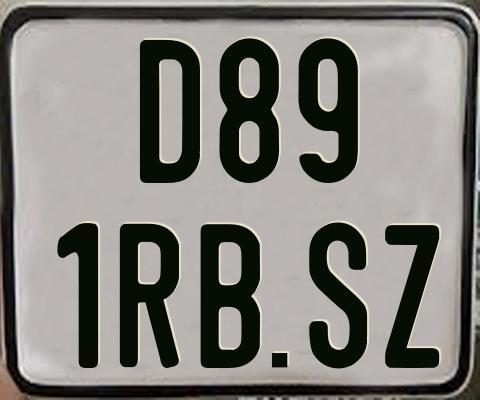1: (57, 221, 98, 369)
8: (217, 37, 282, 186)
9: (297, 37, 362, 184)
B: (198, 223, 263, 370)
D: (138, 39, 198, 185)
R: (118, 221, 181, 369)
S: (307, 220, 370, 369)
Z: (383, 223, 441, 366)
